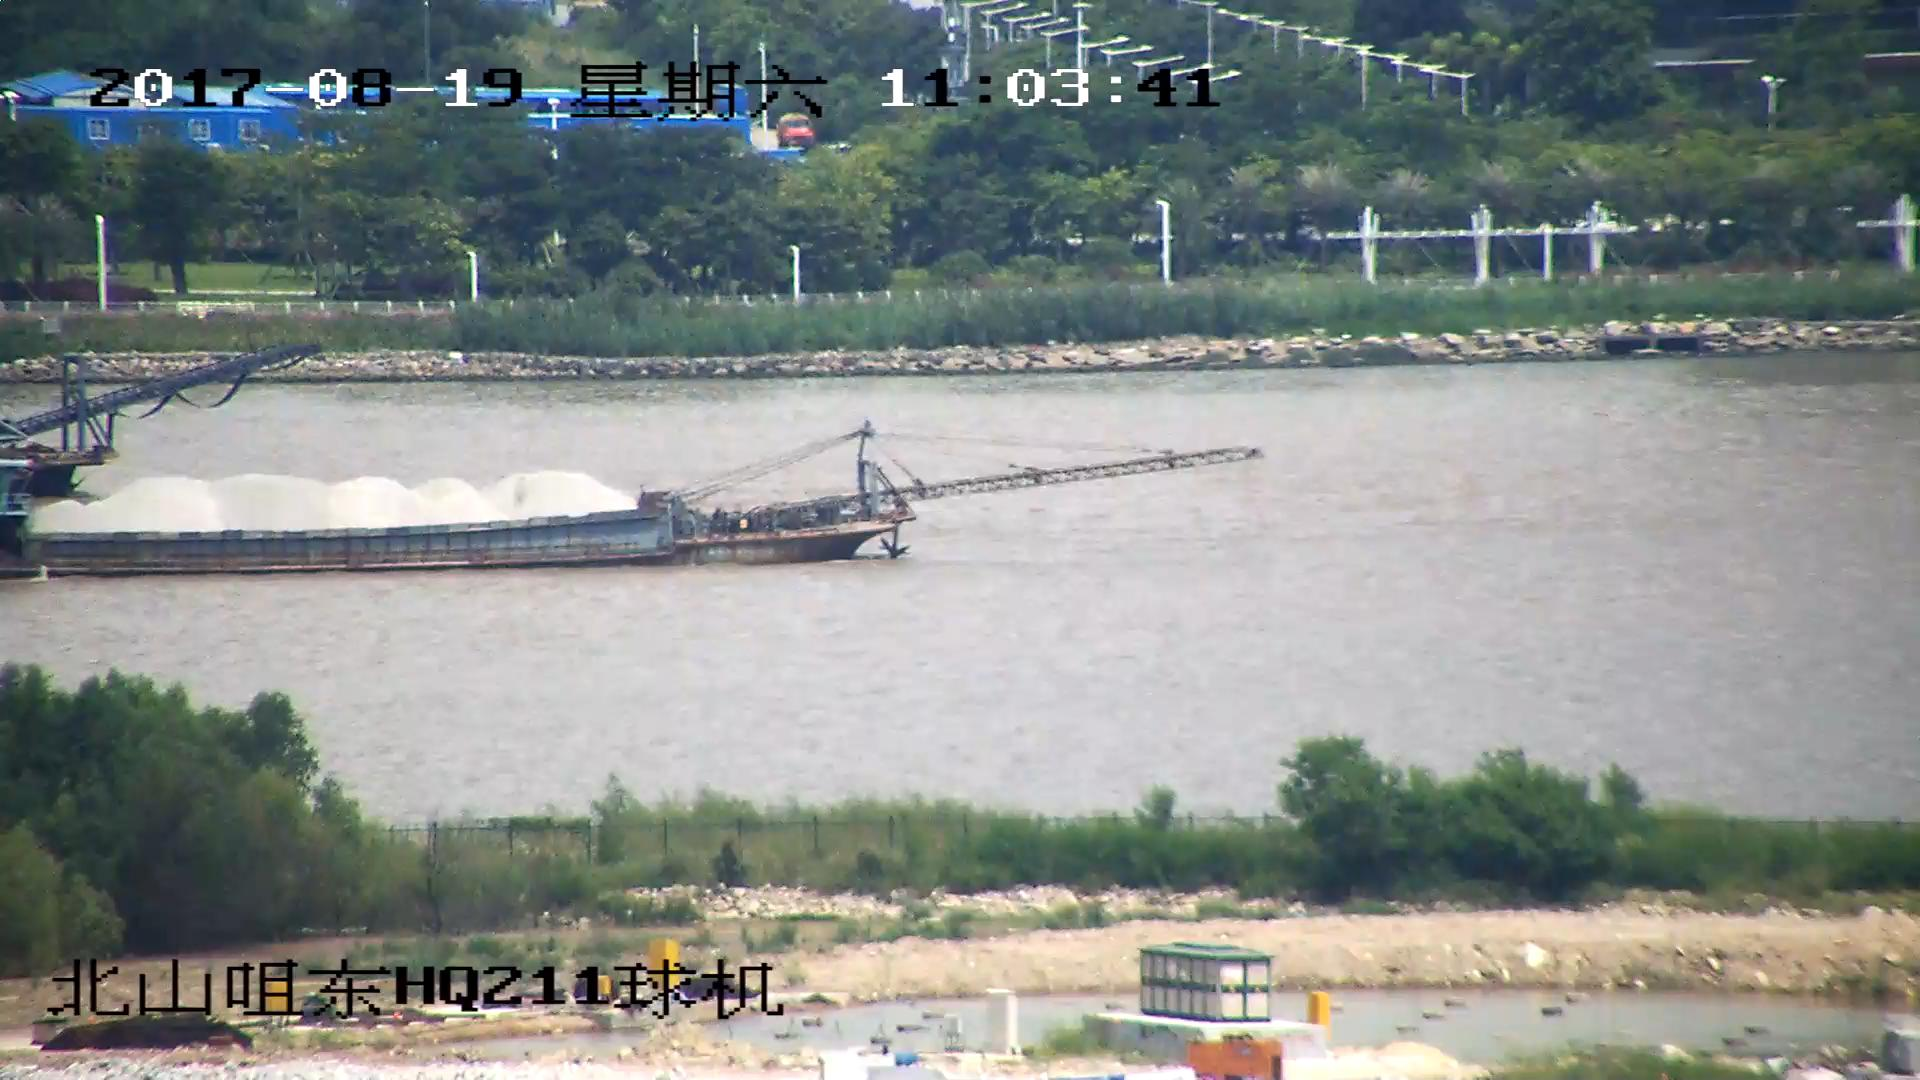ore carrier: (1, 425, 1254, 585), (1, 345, 308, 495)
